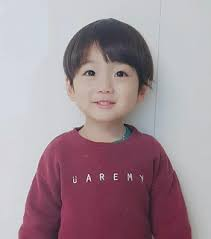person: (60, 16, 154, 127)
